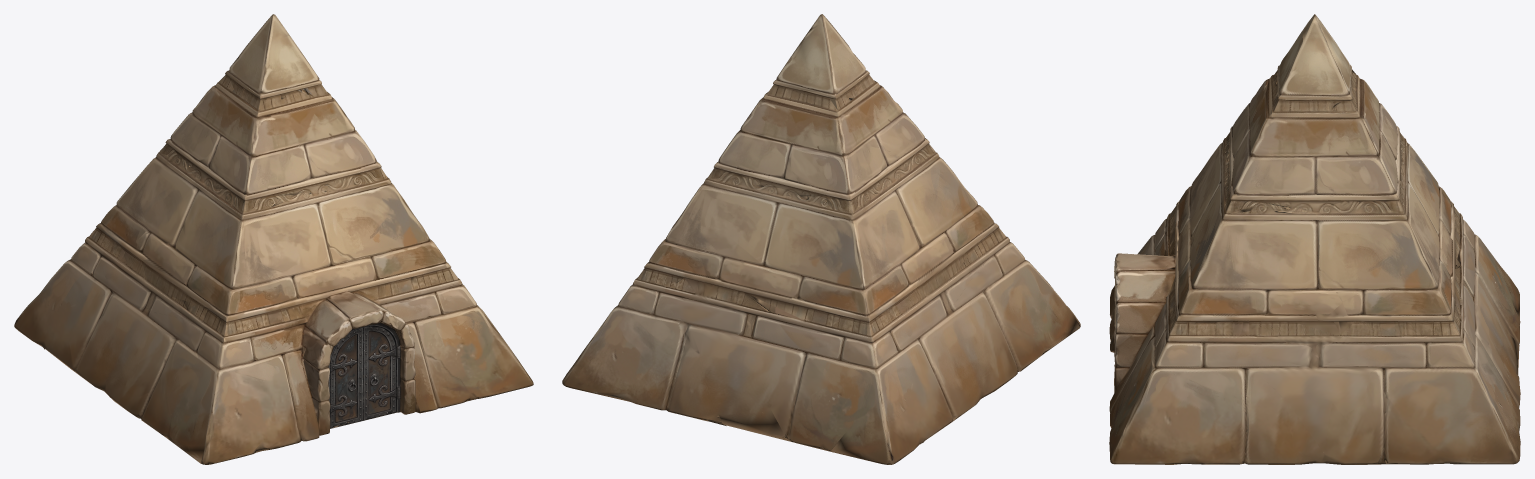
3 views of the same model, side by side, from view 1: azimuth 30°, elevation 25°; view 2: azimuth 150°, elevation 25°; view 3: azimuth 270°, elevation 25° (orthographic). The views are drawn at different scales.
Bounding box in the file's own units: 1.89 × 1.85 × 1.89.
Materials: 1 (1 with a texture image).
